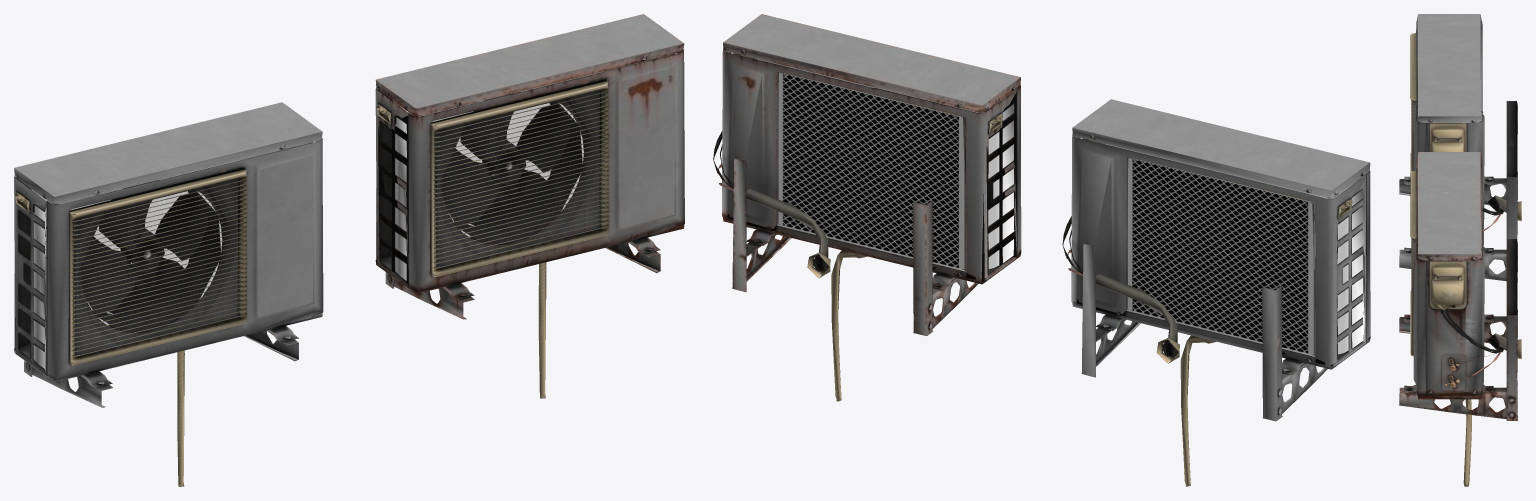
The model's file is exterior_aircon_unit.glb.
3 views of the same model, side by side, from view 1: azimuth 30°, elevation 25°; view 2: azimuth 150°, elevation 25°; view 3: azimuth 270°, elevation 25° (orthographic). The views are drawn at different scales.
Visible parts, largest first — view 1: exterior_aircon_unit_rusted, exterior_aircon_unit; view 2: exterior_aircon_unit, exterior_aircon_unit_rusted; view 3: exterior_aircon_unit_rusted, exterior_aircon_unit.
Boxes of the visible parts, x1=… form: exterior_aircon_unit_rusted: x1=375, y1=14, x2=684, y2=398; exterior_aircon_unit: x1=14, y1=102, x2=323, y2=486; exterior_aircon_unit: x1=1062, y1=99, x2=1370, y2=486; exterior_aircon_unit_rusted: x1=713, y1=14, x2=1021, y2=401; exterior_aircon_unit_rusted: x1=1399, y1=152, x2=1521, y2=486; exterior_aircon_unit: x1=1399, y1=14, x2=1521, y2=282.
Bounding box in the file's own units: 1.8 × 0.927 × 0.3748.
4 materials, 4 textured.
